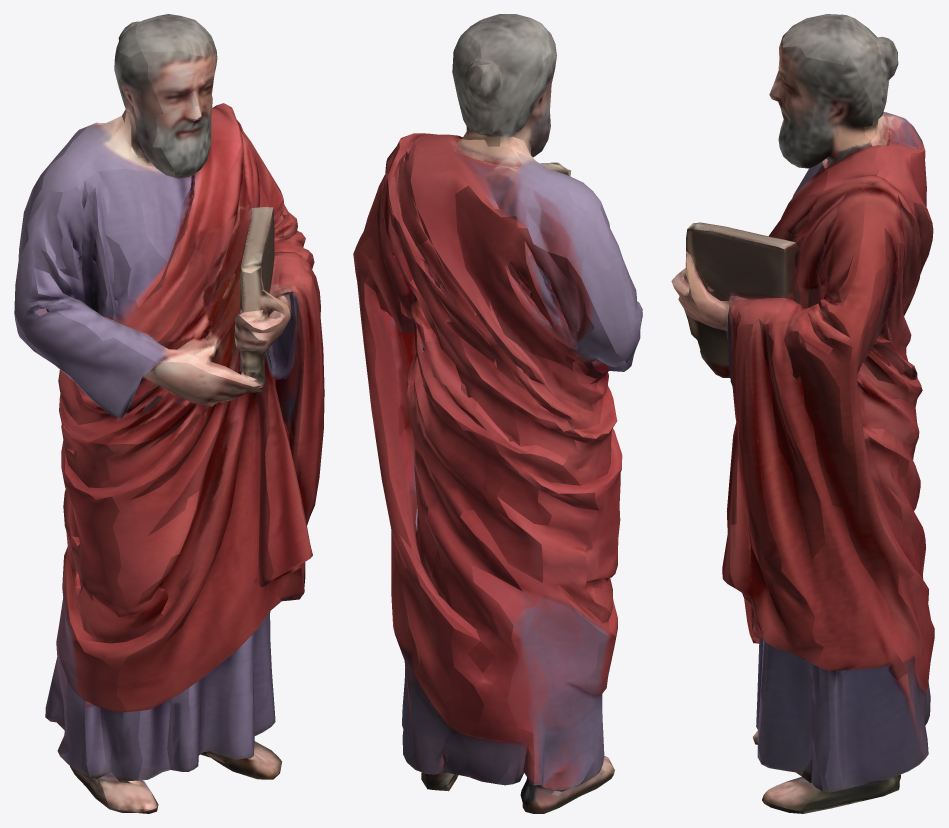
File: plato-normal-diagnostic.glb
3 renders of one model, left to right at view 1: azimuth 30°, elevation 25°; view 2: azimuth 150°, elevation 25°; view 3: azimuth 270°, elevation 25°, orthographic.
Visible parts, largest first — view 1: B_Targeted_normal_diagnostic; view 2: B_Targeted_normal_diagnostic; view 3: B_Targeted_normal_diagnostic.
Boxes of the visible parts, bbox=[...] form: B_Targeted_normal_diagnostic: bbox=[14, 14, 324, 813]; B_Targeted_normal_diagnostic: bbox=[353, 14, 642, 813]; B_Targeted_normal_diagnostic: bbox=[671, 14, 934, 813].
Size of the model in its own units: 0.6849 by 1.75 by 0.5573.
Materials: 1 (1 with a texture image).
